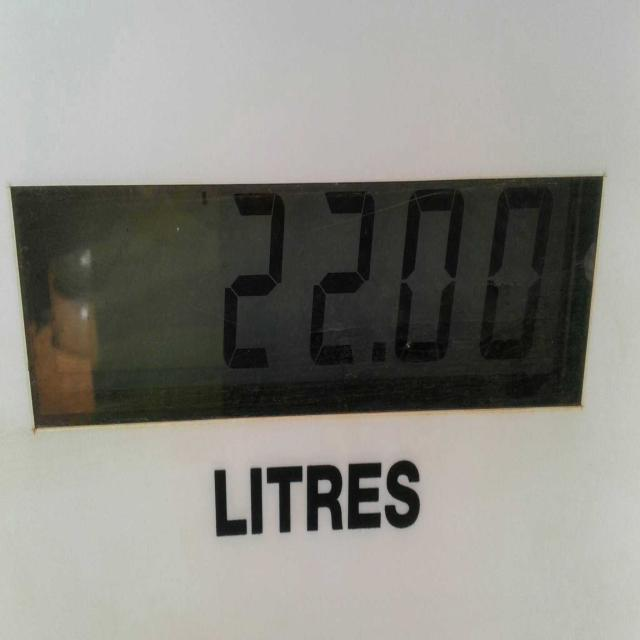.: (364, 320, 401, 394)
0: (471, 178, 560, 398), (389, 168, 473, 376)
2: (206, 176, 295, 389), (297, 174, 379, 395)
